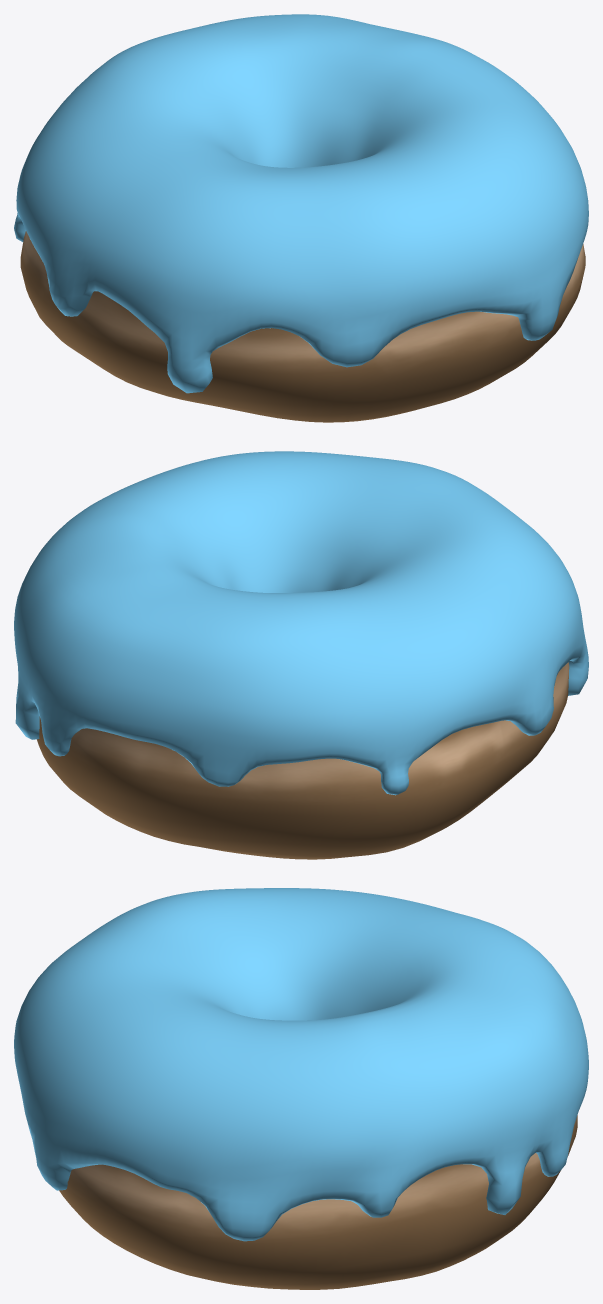
3 views of the same model, one above another, from view 1: azimuth 30°, elevation 25°; view 2: azimuth 150°, elevation 25°; view 3: azimuth 270°, elevation 25° (orthographic).
Visible parts, largest first — view 1: icing, donut; view 2: icing, donut; view 3: icing, donut.
Part boxes in pixels (<box>): icing: <box>14,14,588,393</box>; donut: <box>20,231,585,422</box>; icing: <box>14,451,588,795</box>; donut: <box>37,662,569,859</box>; icing: <box>14,888,588,1241</box>; donut: <box>59,1115,577,1289</box>.
Bounding box in the file's own units: 0.1036 × 0.0502 × 0.1036.
Materials: 3 (1 with a texture image).
